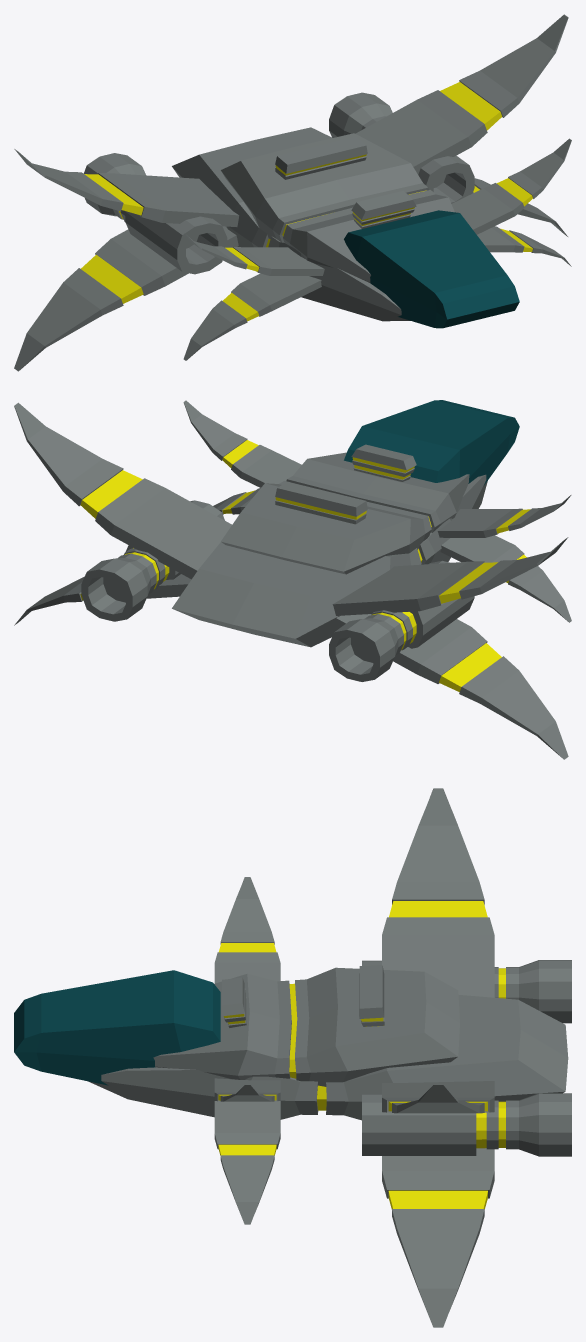
The model's file is spaceship_2.fbx.
The picture shows the model from 3 angles, top to bottom: view 1: azimuth 30°, elevation 25°; view 2: azimuth 150°, elevation 25°; view 3: azimuth 270°, elevation 25°; orthographic projection. The views are drawn at different scales.
Visible parts, largest first — view 1: spaceship.001; view 2: spaceship.001; view 3: spaceship.001.
Part boxes in pixels (bbox=[...]): spaceship.001: bbox=[14, 14, 571, 371]; spaceship.001: bbox=[14, 400, 571, 759]; spaceship.001: bbox=[14, 788, 571, 1327].
Bounding box in the file's own units: 1018 × 388 × 810.
